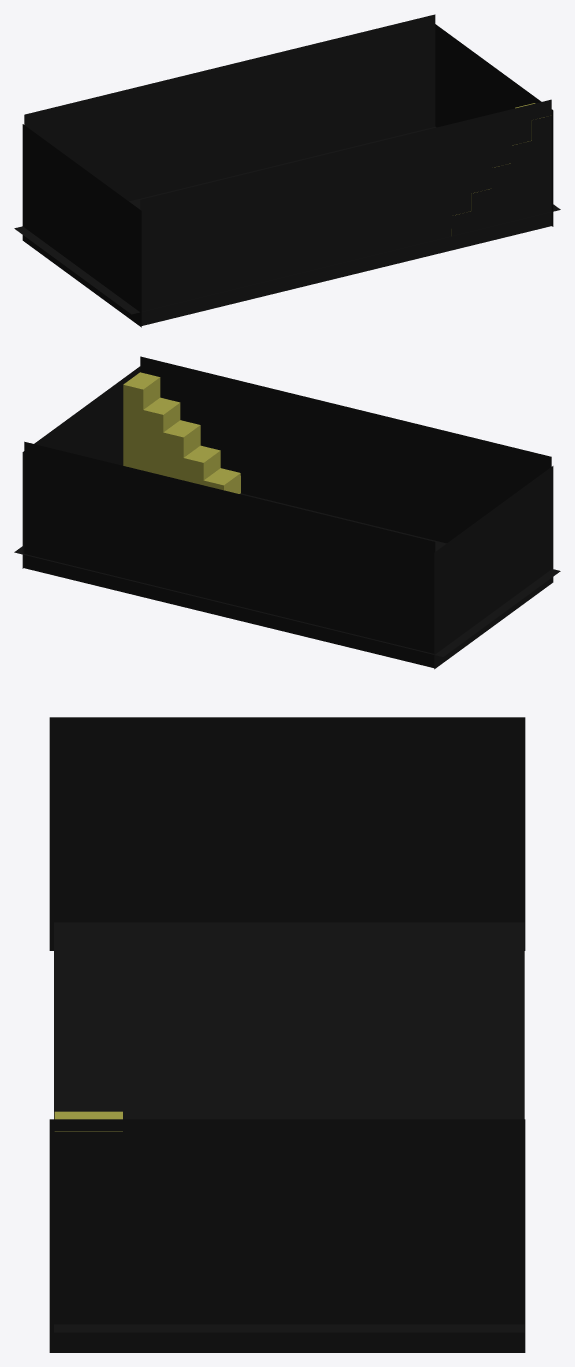
The model's file is LargePit.fbx.
3 renders of one model, top to bottom at view 1: azimuth 30°, elevation 25°; view 2: azimuth 150°, elevation 25°; view 3: azimuth 270°, elevation 25°, orthographic. The views are drawn at different scales.
Parts seen in each view (by area): view 1: LargePitWall, LargePitWall1, LargePitWall2, LargePitWall3, LargePitGround; view 2: LargePitWall1, LargePitWall, LargePitWall2, LargePitStairs, LargePitWall3, LargePitGround; view 3: LargePitWall3, LargePitWall2, LargePitGround.
Part boxes in pixels (x1,y1,x2,y2): LargePitWall: (140, 99, 551, 325); LargePitWall1: (24, 14, 435, 201); LargePitWall2: (22, 124, 141, 327); LargePitWall3: (435, 24, 553, 226); LargePitGround: (14, 126, 560, 314); LargePitWall1: (24, 441, 435, 667); LargePitWall: (140, 356, 551, 543); LargePitWall2: (434, 466, 553, 669); LargePitStairs: (123, 372, 240, 493); LargePitWall3: (22, 366, 140, 568); LargePitGround: (14, 493, 560, 656); LargePitWall3: (49, 1119, 525, 1352); LargePitWall2: (49, 717, 525, 950); LargePitGround: (54, 922, 524, 1332).
Bounding box in the file's own units: 21.29 × 6 × 10.22.
